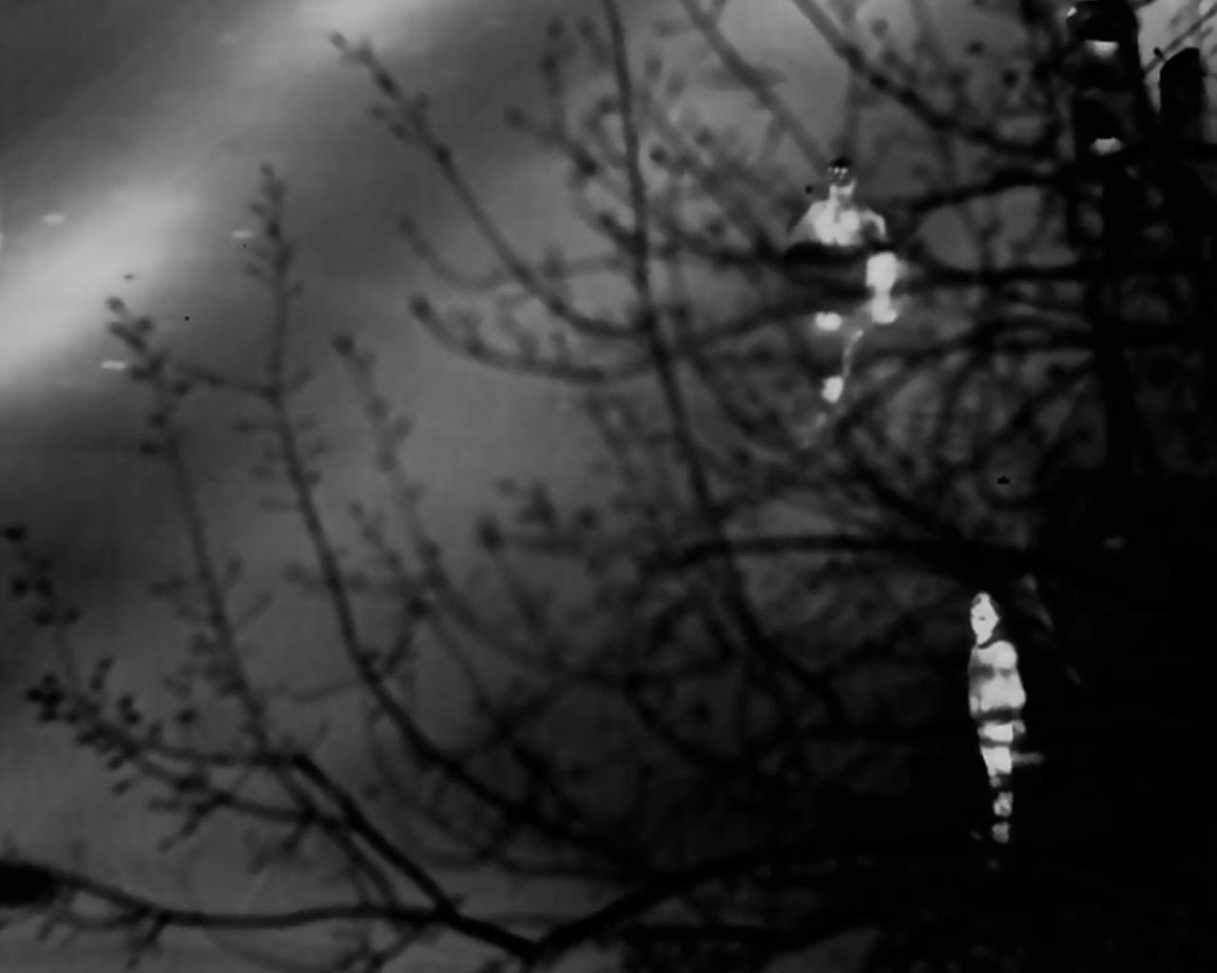person: (781, 167, 909, 369), (959, 579, 1034, 827)
